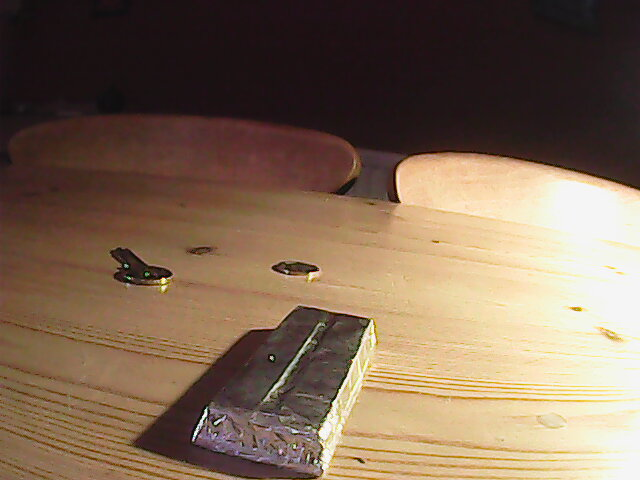Coin: (270, 256, 321, 279)
Foil: (190, 303, 380, 477)
Key: (108, 246, 175, 288)
